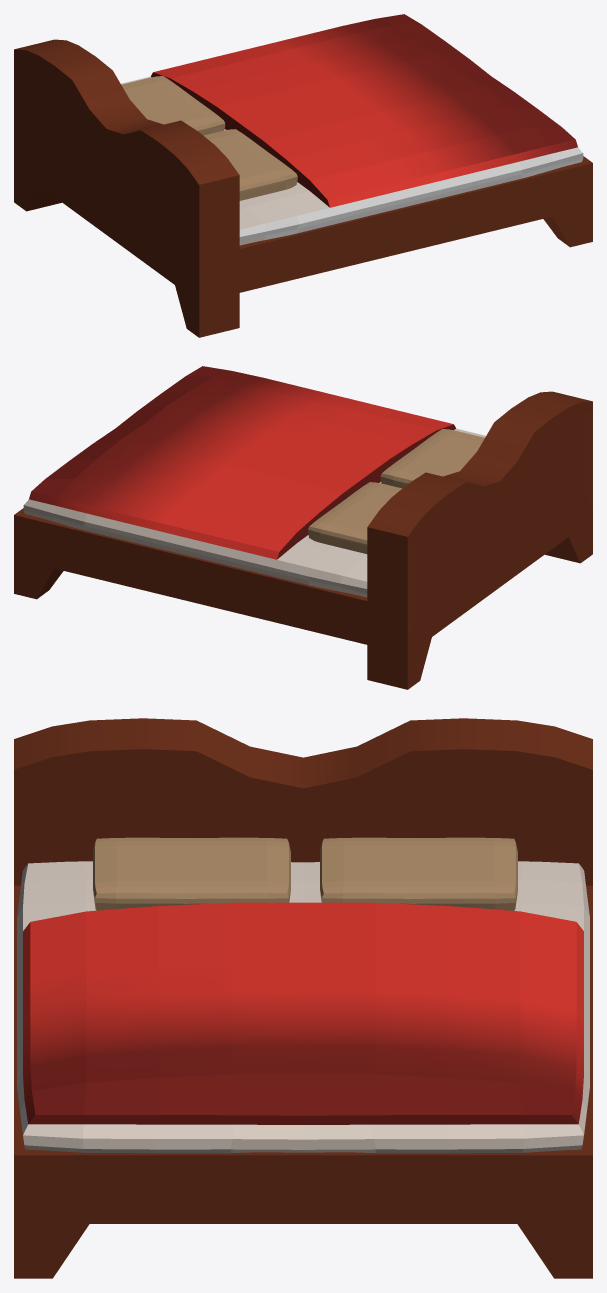
The model's file is Room_02.fbx.
3 views of the same model, one above another, from view 1: azimuth 30°, elevation 25°; view 2: azimuth 150°, elevation 25°; view 3: azimuth 270°, elevation 25° (orthographic). The views are drawn at different scales.
Visible parts, largest first — view 1: Plane.001; view 2: Plane.001; view 3: Plane.001.
Boxes of the visible parts, x1,y1,x2,y2 form: Plane.001: (14,14,592,337); Plane.001: (14,366,592,689); Plane.001: (14,718,592,1278).
Bounding box in the file's own units: 396 × 160 × 322.
